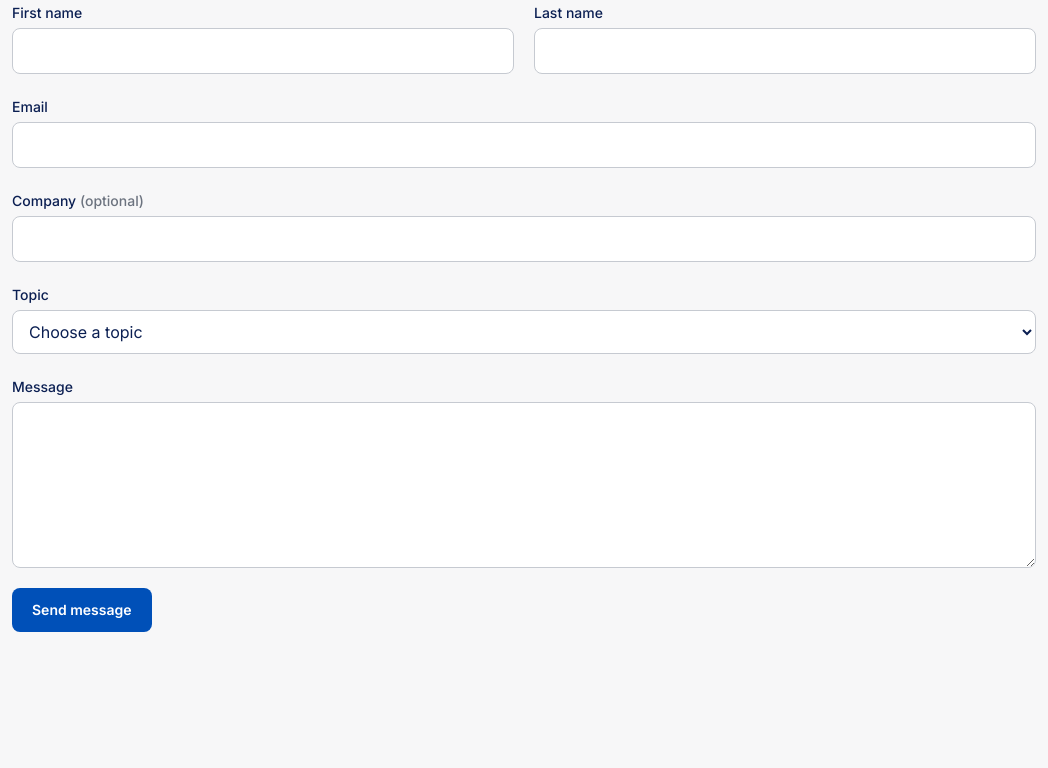
Scenario: ContactForm › shows a general error when the request fails
In the field labelled "First name": [263, 51] box [12,28,514,74], type "Ada"
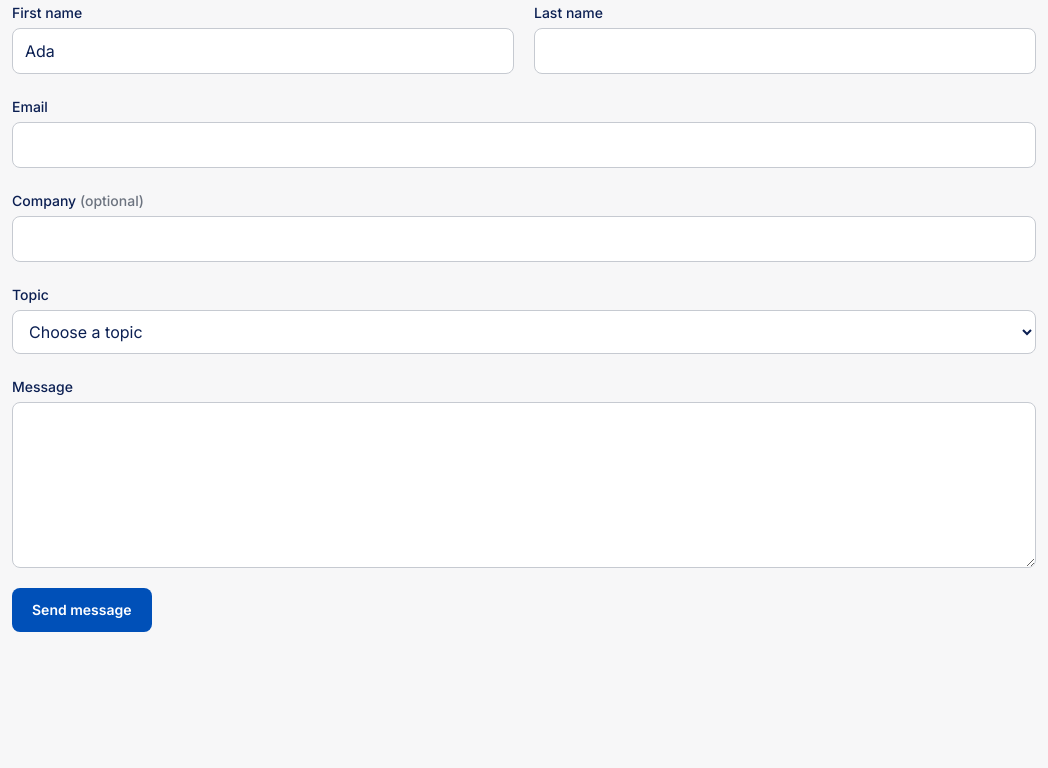
In the field labelled "Last name": [785, 51] box [534,28,1036,74], type "Lovelace"
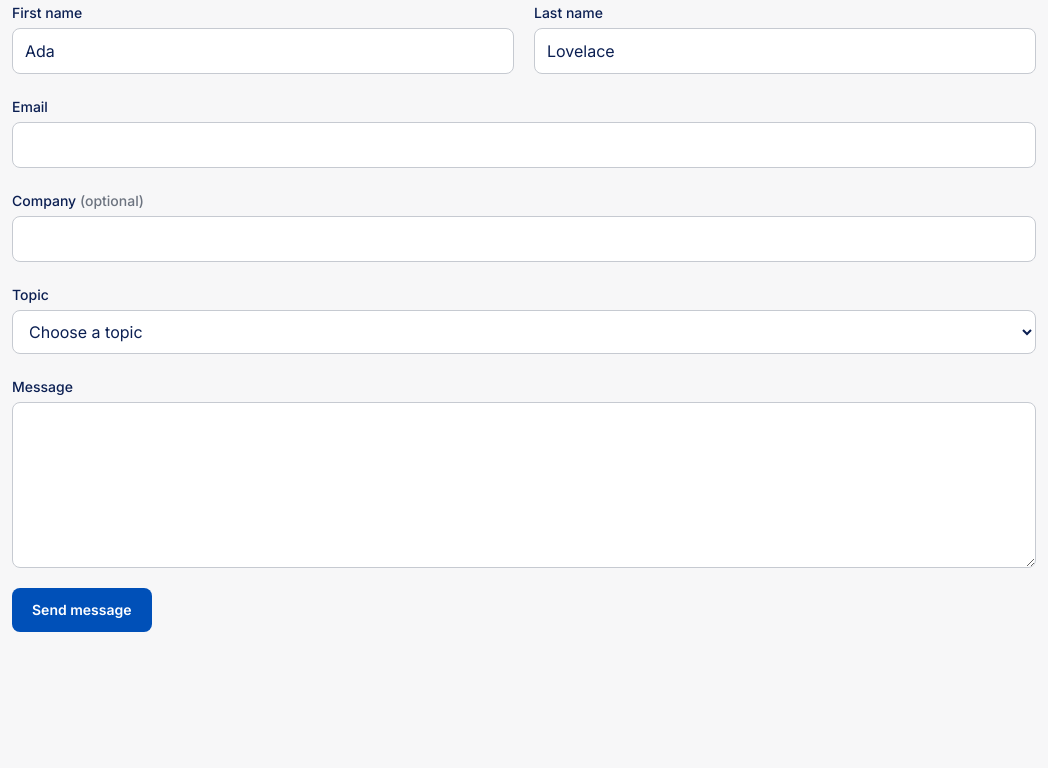
In the field labelled "Email": [524, 145] box [12,122,1036,168], type "ada@example.com"
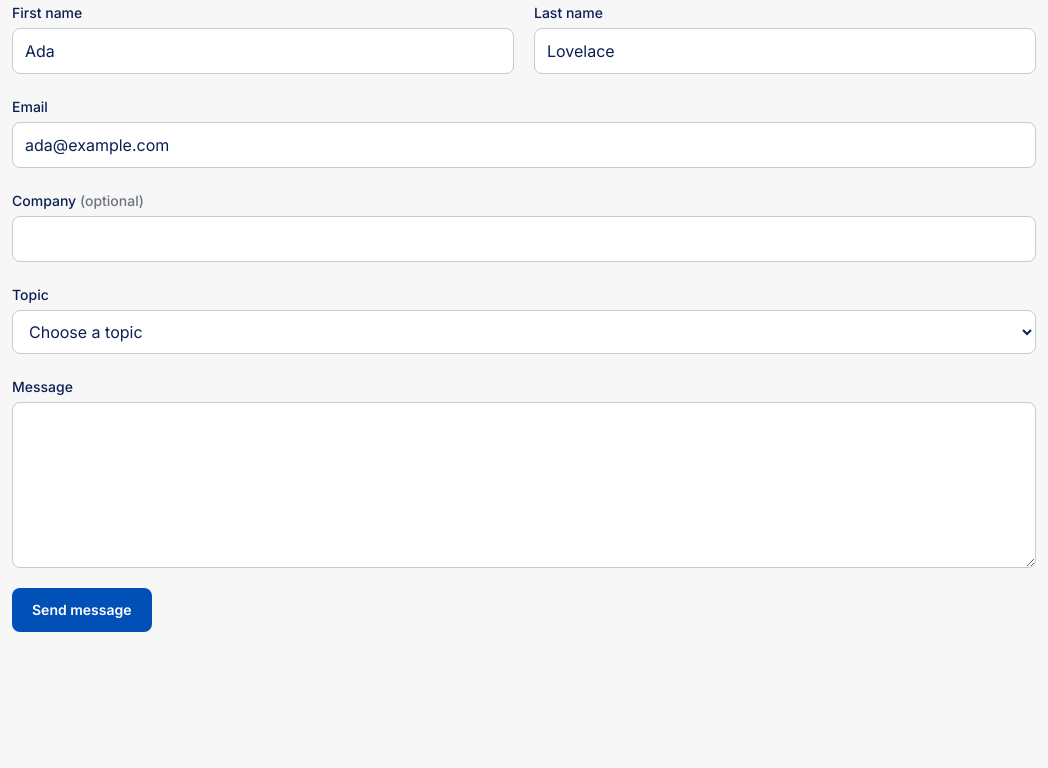
Select "Billing" in the dropdown labelled "Topic": [524, 332] box [12,310,1036,354]
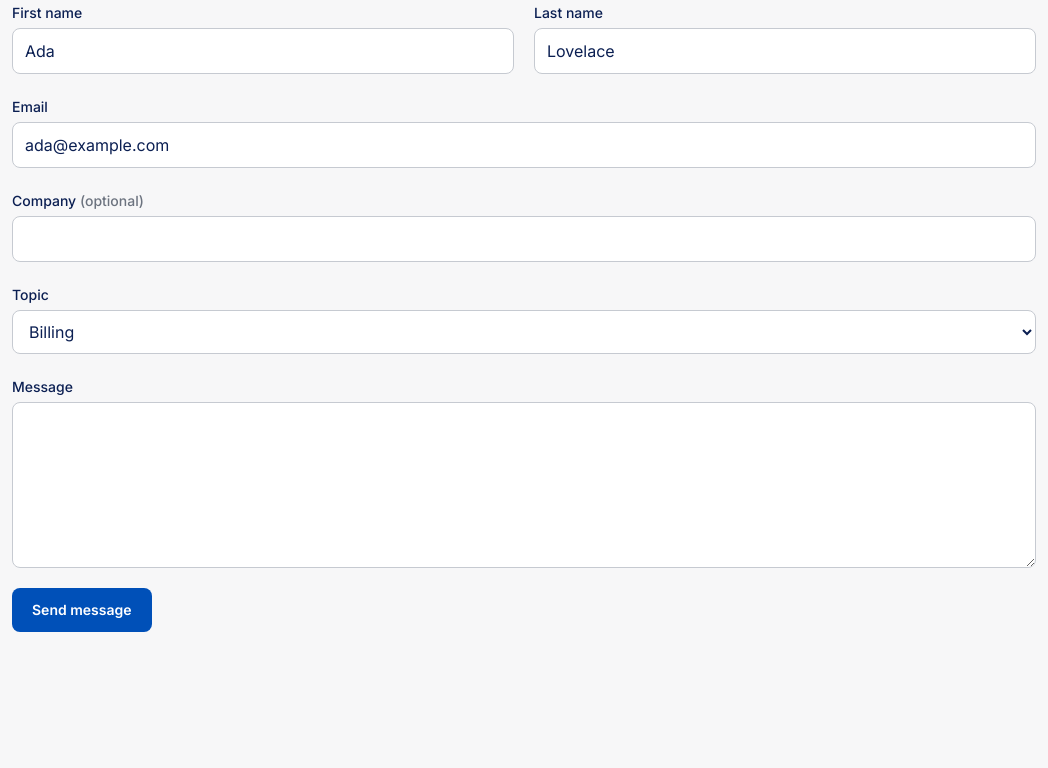
In the text box labelled "Message": [524, 485] box [12,402,1036,568], type "Hello"
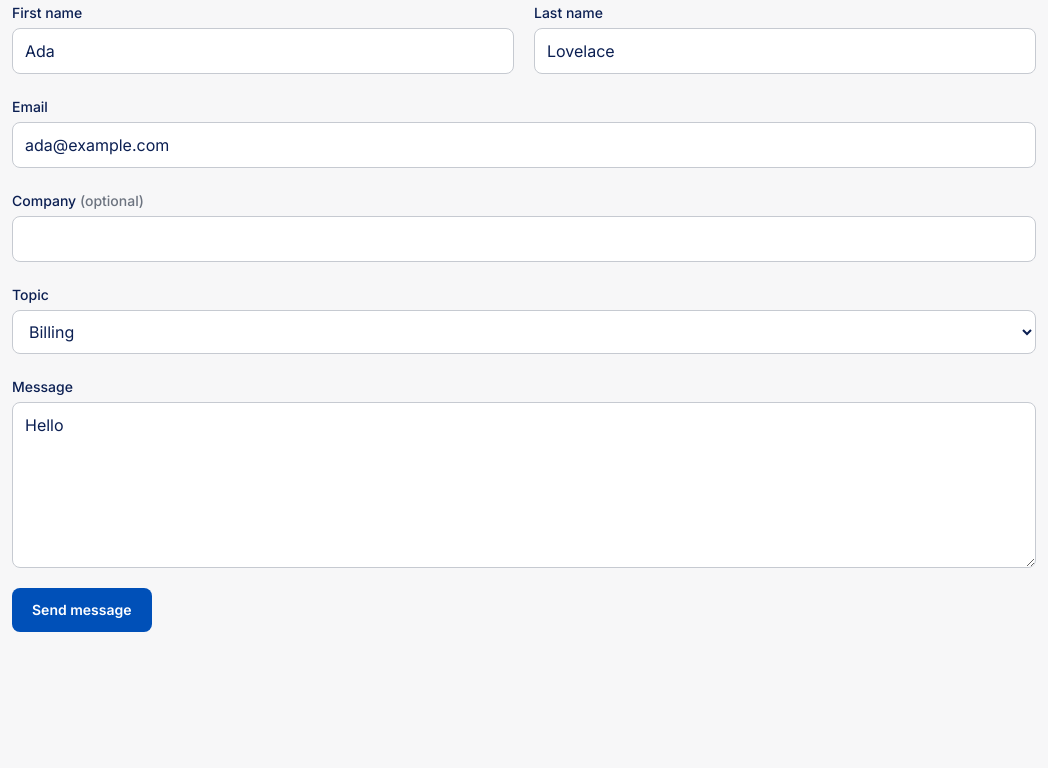
Click the button "Send message": [82, 610] box [12,588,152,632]
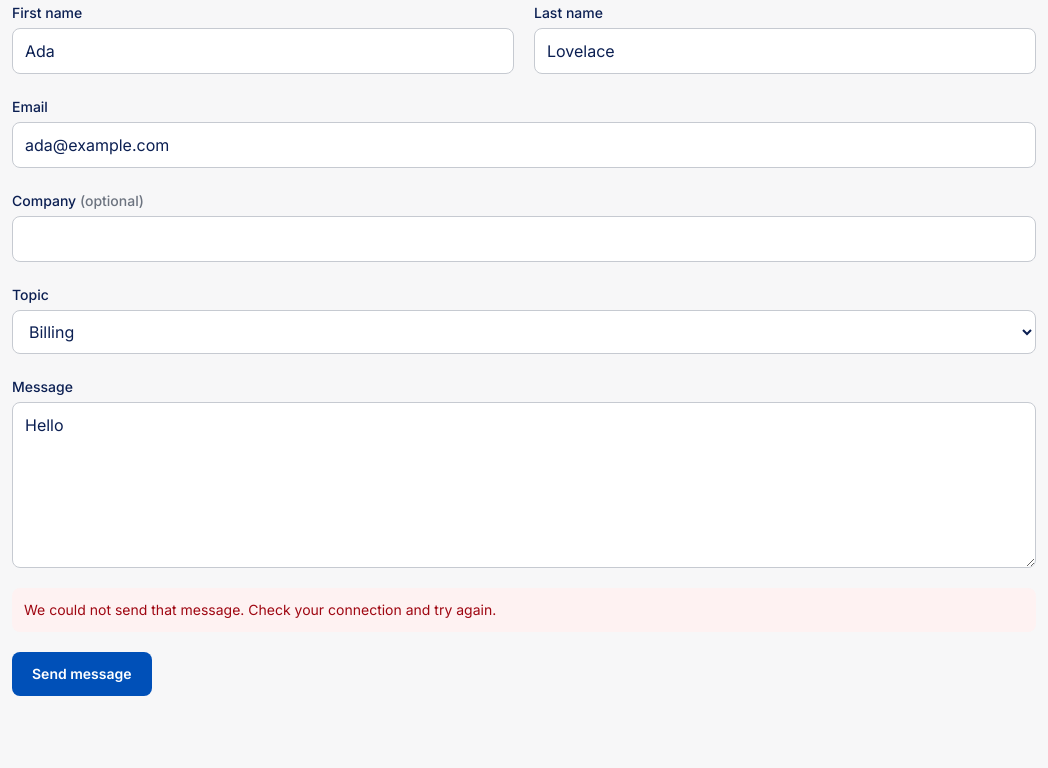
Now the message shows "could not send", box [24,601,496,618]
